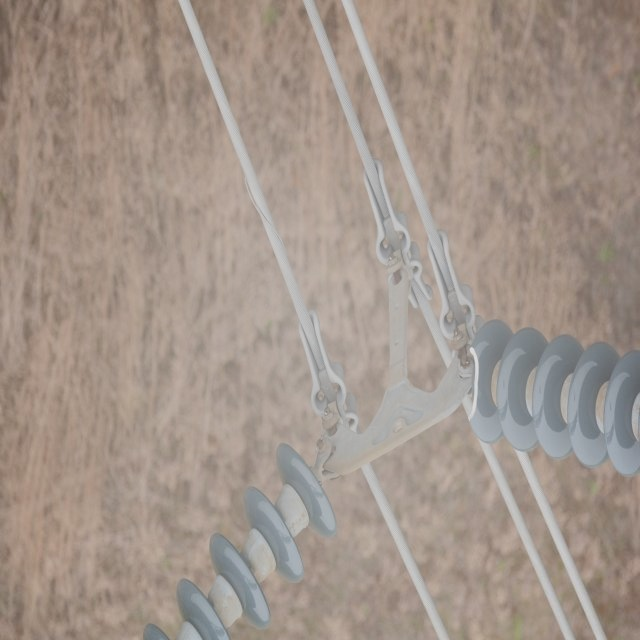broken: (467, 344, 478, 427)
insulator: (141, 440, 338, 640), (467, 317, 640, 477)
